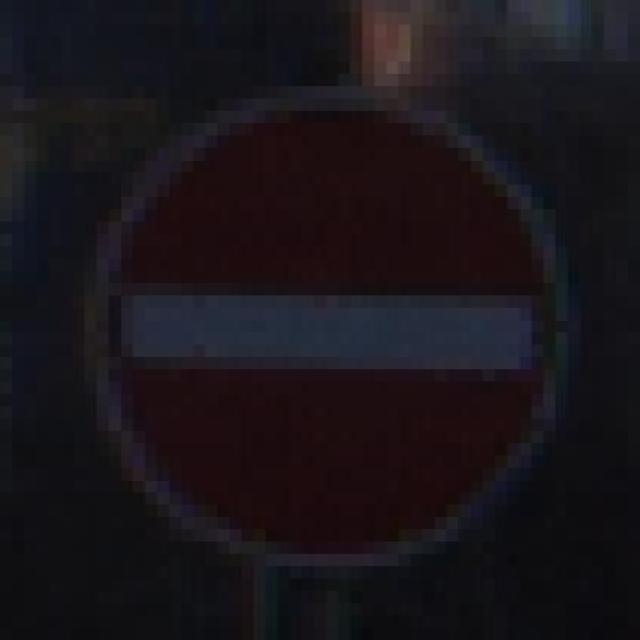No Entry: (46, 77, 602, 569)
